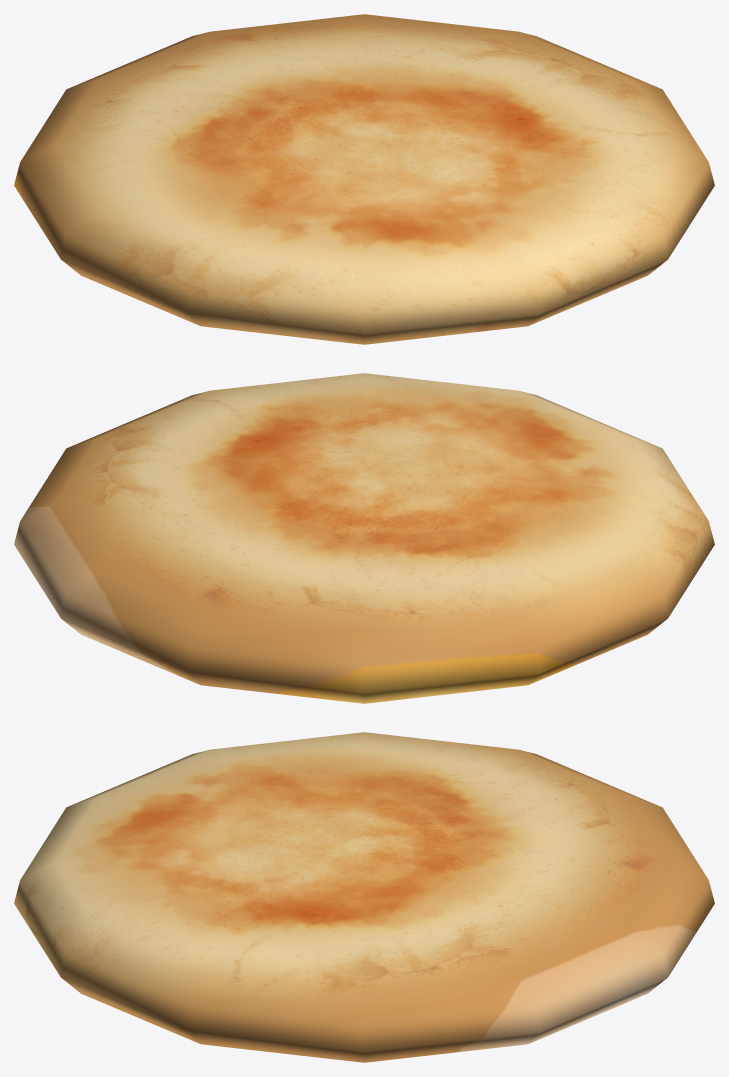
The model's file is Flatbread.fbx.
3 renders of one model, top to bottom at view 1: azimuth 30°, elevation 25°; view 2: azimuth 150°, elevation 25°; view 3: azimuth 270°, elevation 25°, orthographic.
Visible parts, largest first — view 1: Flatbread; view 2: Flatbread; view 3: Flatbread.
Part boxes in pixels (box(x1,y1,x2,y2)): Flatbread: box(14, 14, 714, 344); Flatbread: box(14, 373, 714, 703); Flatbread: box(14, 732, 714, 1062).
Bounding box in the file's own units: 53.1 × 6.67 × 53.1.
